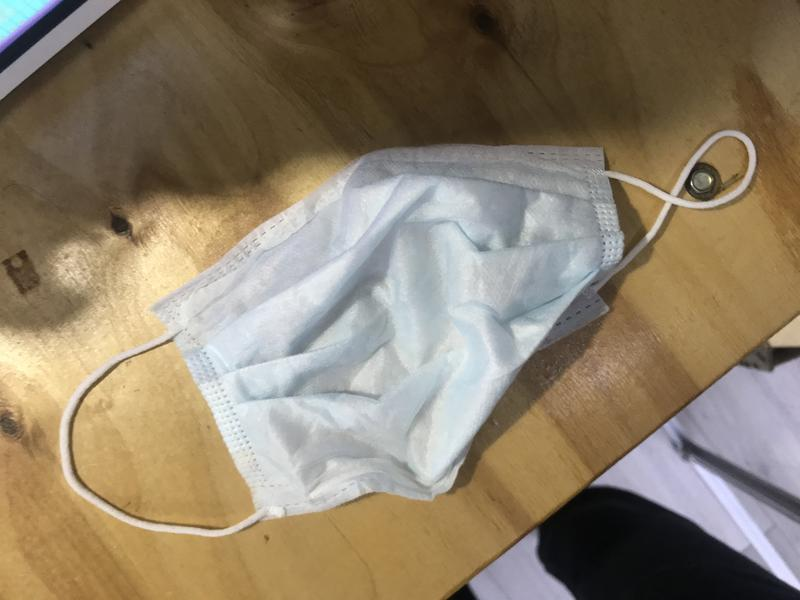medical_mask: (58, 144, 671, 535)
